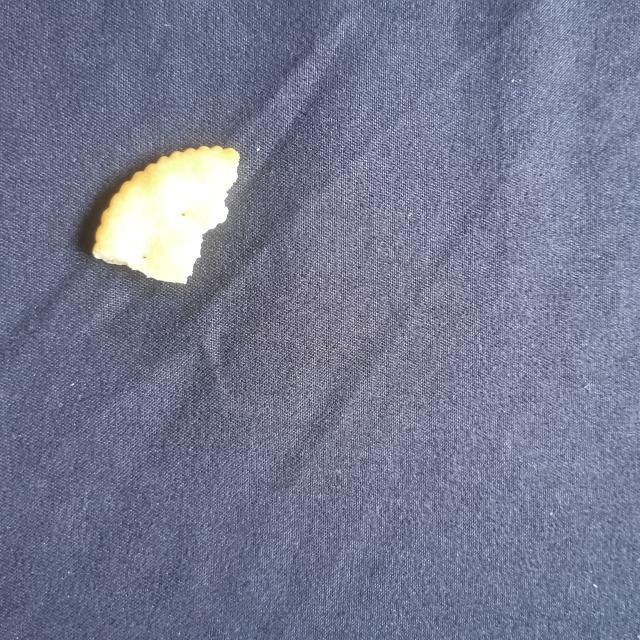Broken: (82, 140, 246, 288)
